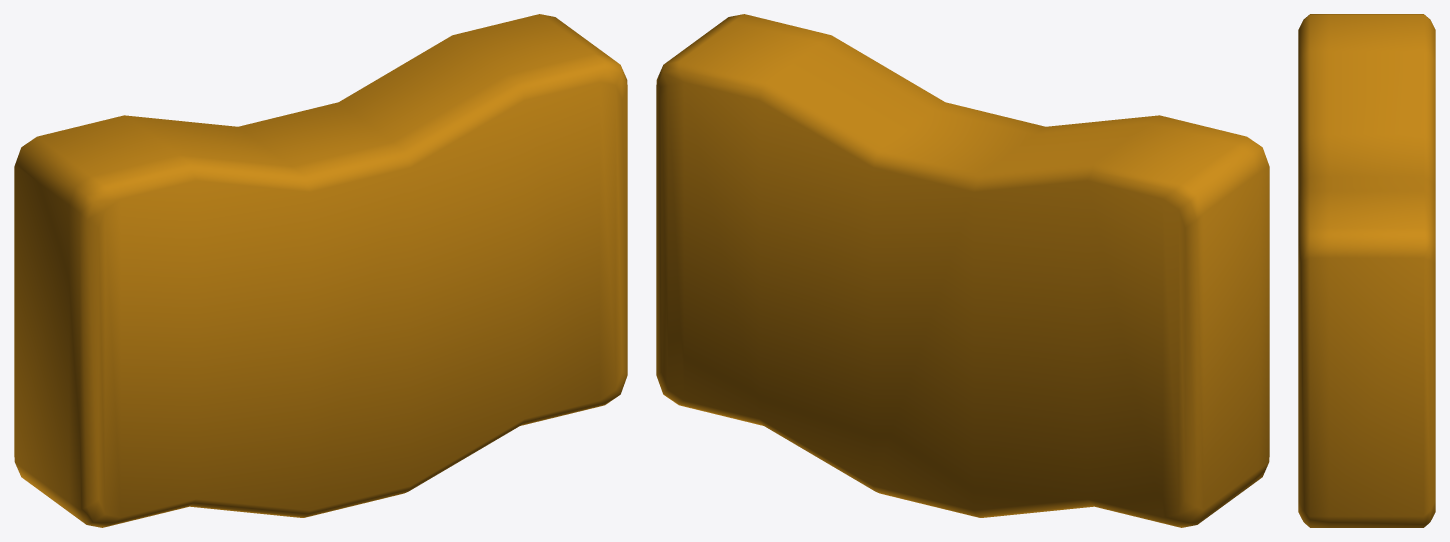
3 views of the same model, side by side, from view 1: azimuth 30°, elevation 25°; view 2: azimuth 150°, elevation 25°; view 3: azimuth 270°, elevation 25° (orthographic). The views are drawn at different scales.
Size of the model in its own units: 1 by 0.6685 by 0.25.
